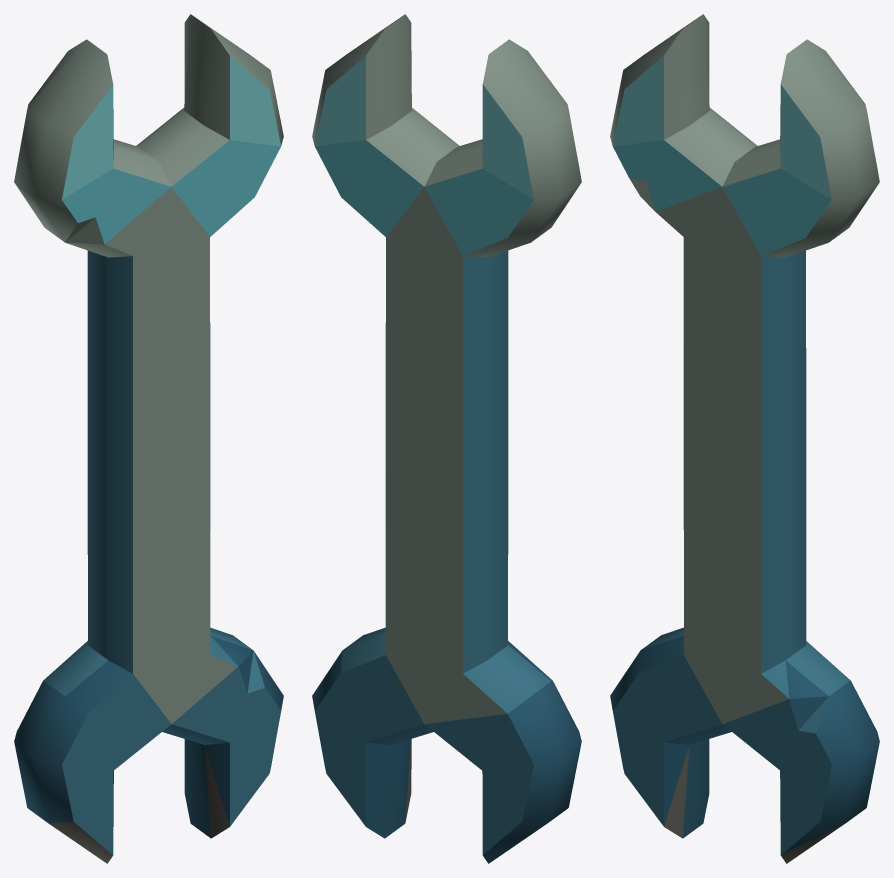
Rendered from itch_kaykit_rpg_tools_wrench_b.glb.
3 views of the same model, side by side, from view 1: azimuth 30°, elevation 25°; view 2: azimuth 150°, elevation 25°; view 3: azimuth 330°, elevation 25° (orthographic).
Visible parts, largest first — view 1: wrench_B; view 2: wrench_B; view 3: wrench_B.
Boxes of the visible parts, box(x1,y1,x2,y2) form: wrench_B: box(14, 14, 283, 863); wrench_B: box(312, 14, 581, 863); wrench_B: box(610, 14, 879, 863).
Bounding box in the file's own units: 0.6766 × 2.1 × 0.2125.
